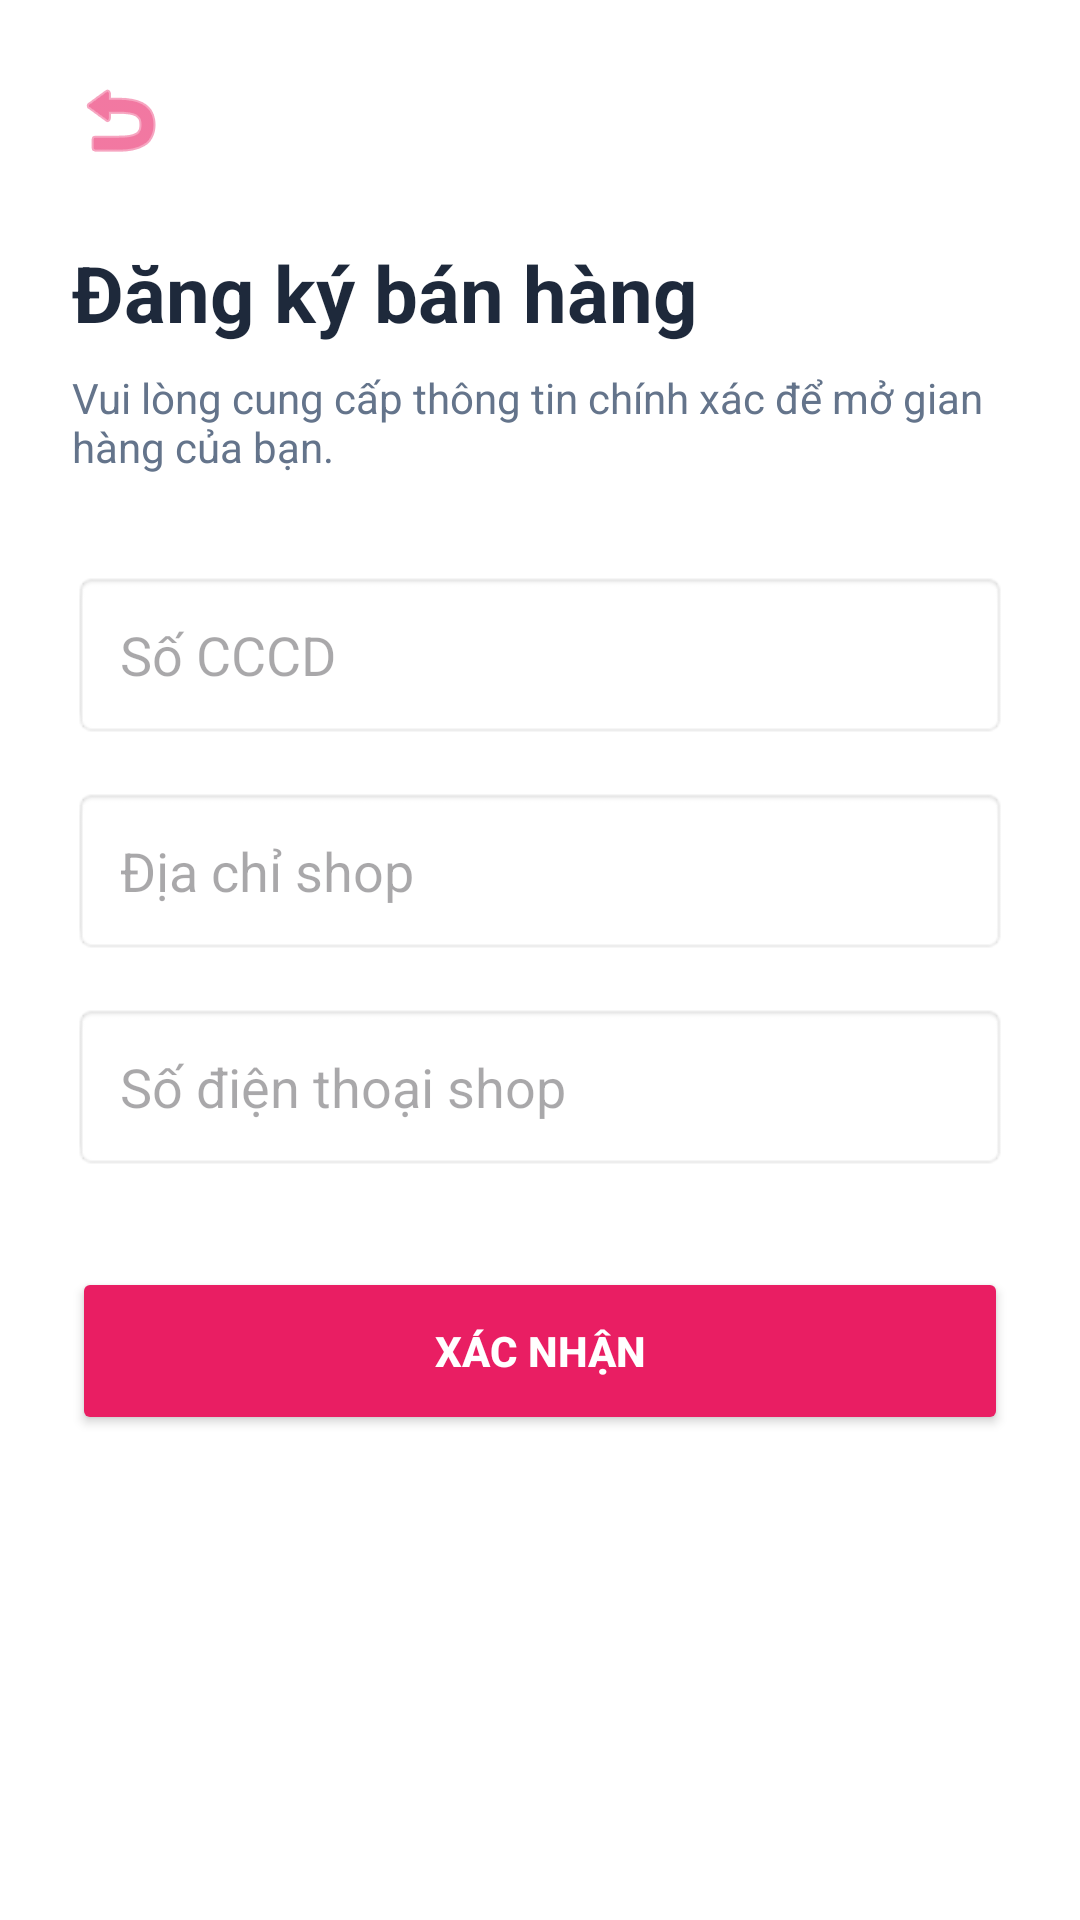

Locate icon controls on the screen. Image size 1080px x 1920px, boxes as detection(x1, y1, x2, y2).
revert: detection(87, 89, 156, 152)
